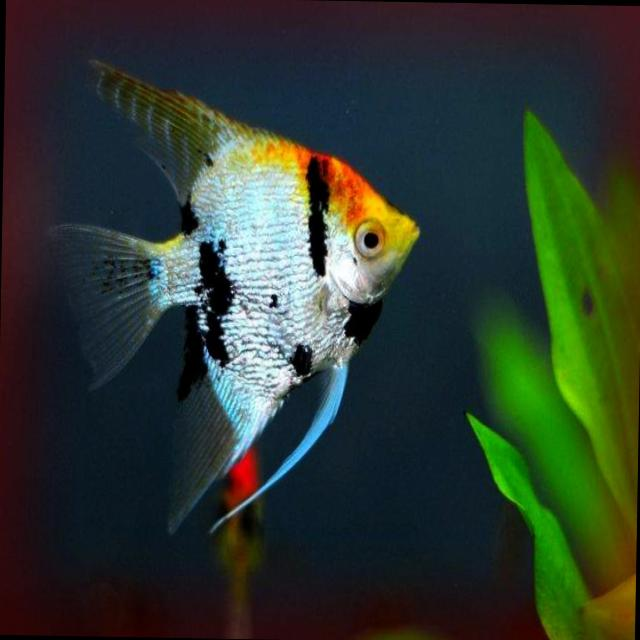AngelFish: (48, 49, 423, 538)
